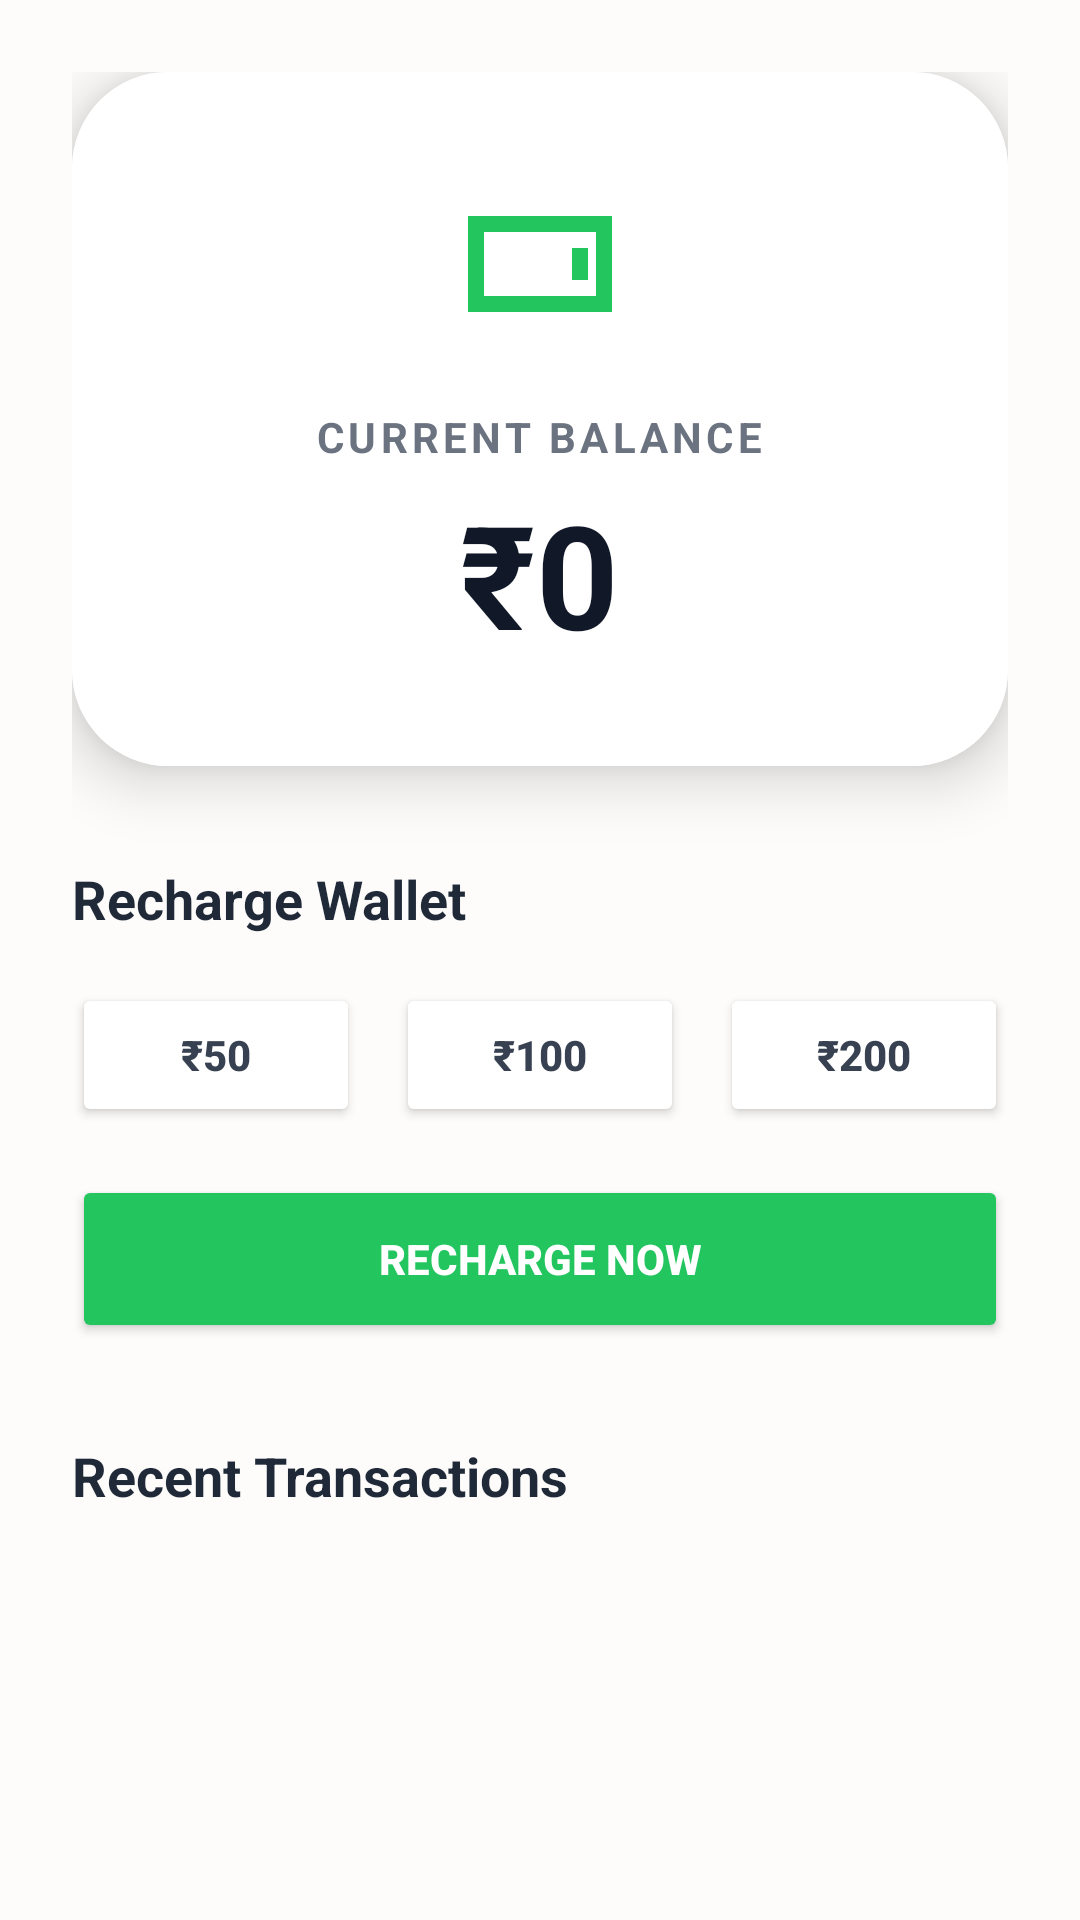

Named icons in this screenshot (1080 × 1920) and their bounding boxes, (x1, y1, x2, y2):
wallet: (468, 216, 612, 312)
